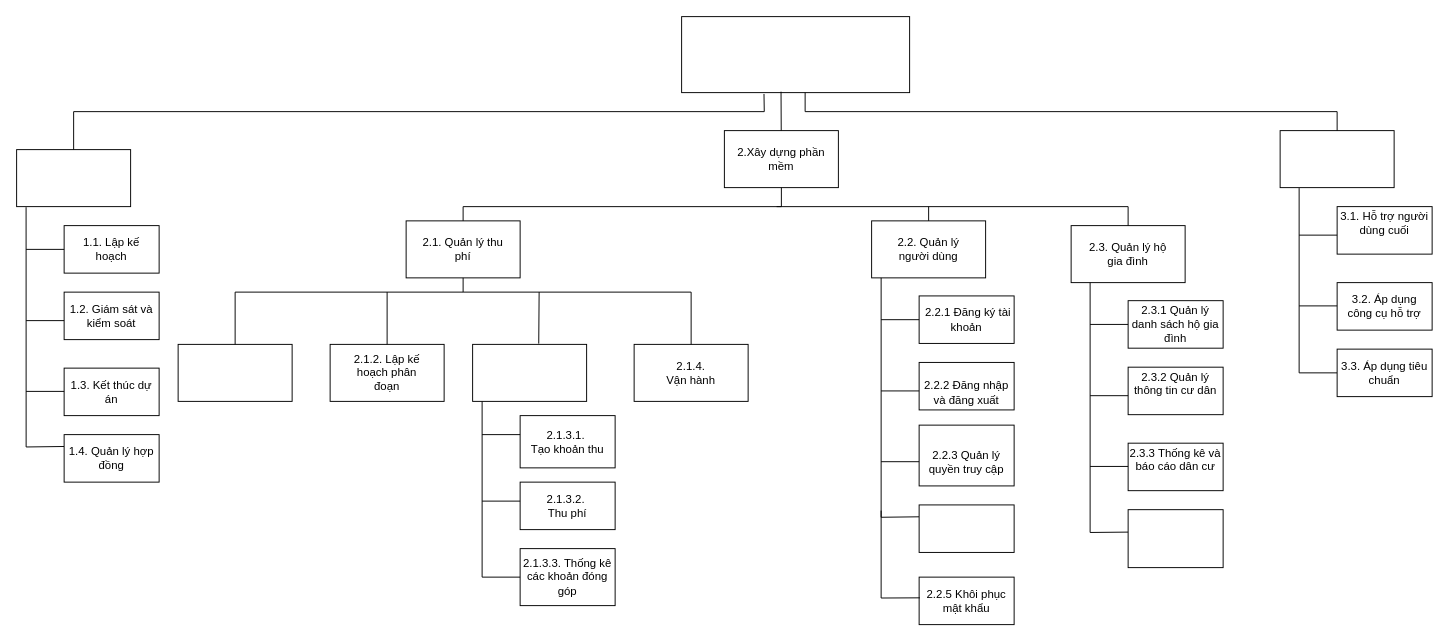
Image size: 1449x641. Some labels were removed from this diagram. The shapes that lost their labels are listed below. From the top down, each one's box as (x1, y1, x2, y2) in pixels, then its label:
(681, 16, 910, 93): Phần mềm quản lý và thu phí ở chung cư Blue Moon
(16, 149, 131, 207): 1. Quản lý dự án
(1279, 130, 1394, 188): 3. Chăm sóc hỗ trợ
(177, 343, 292, 401): 2.1.1. Thiết lập yêu cầu
(472, 343, 587, 401): 2.1.3. Phát triển
(918, 504, 1014, 552): 2.2.4 Quản lý thông tin cá nhân
(1127, 509, 1223, 568): 2.3.4 Quản lý phản hồi và khiếu nại
